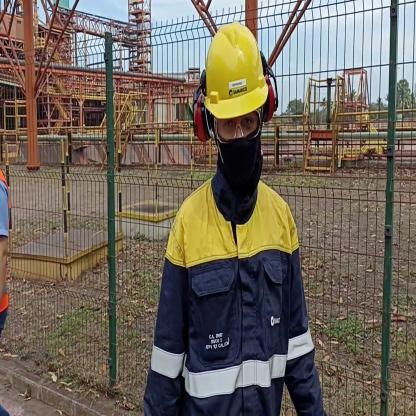Balaclava: (215, 112, 264, 201)
C_eletrica: (150, 185, 320, 416)
Capacete: (199, 19, 273, 114)
